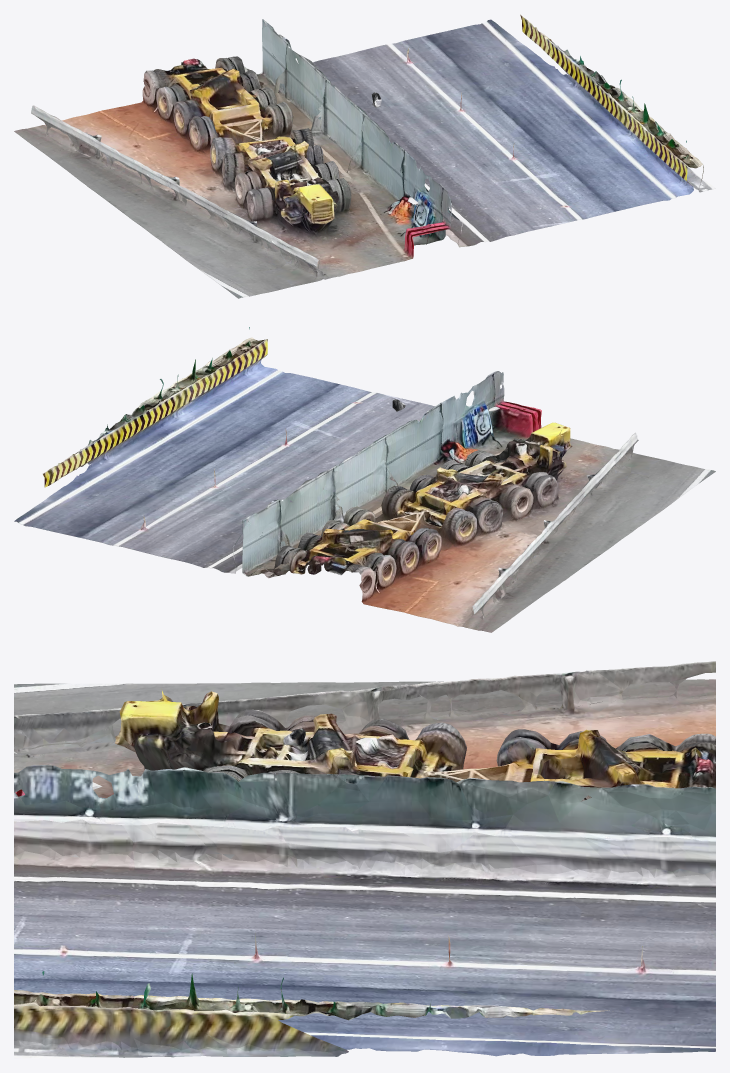
The model's file is BlockYXYB_L21_10.glb.
3 renders of one model, top to bottom at view 1: azimuth 30°, elevation 25°; view 2: azimuth 150°, elevation 25°; view 3: azimuth 270°, elevation 25°, orthographic. The views are drawn at different scales.
Parts seen in each view (by area): view 1: rtc; view 2: rtc; view 3: rtc.
Boxes of the visible parts, x1=… form: rtc: x1=14, y1=14, x2=715, y2=298; rtc: x1=14, y1=327, x2=715, y2=632; rtc: x1=14, y1=661, x2=715, y2=1058.
Size of the model in its own units: 17.84 by 3.22 by 14.53.
Materials: 6 (6 with a texture image).
